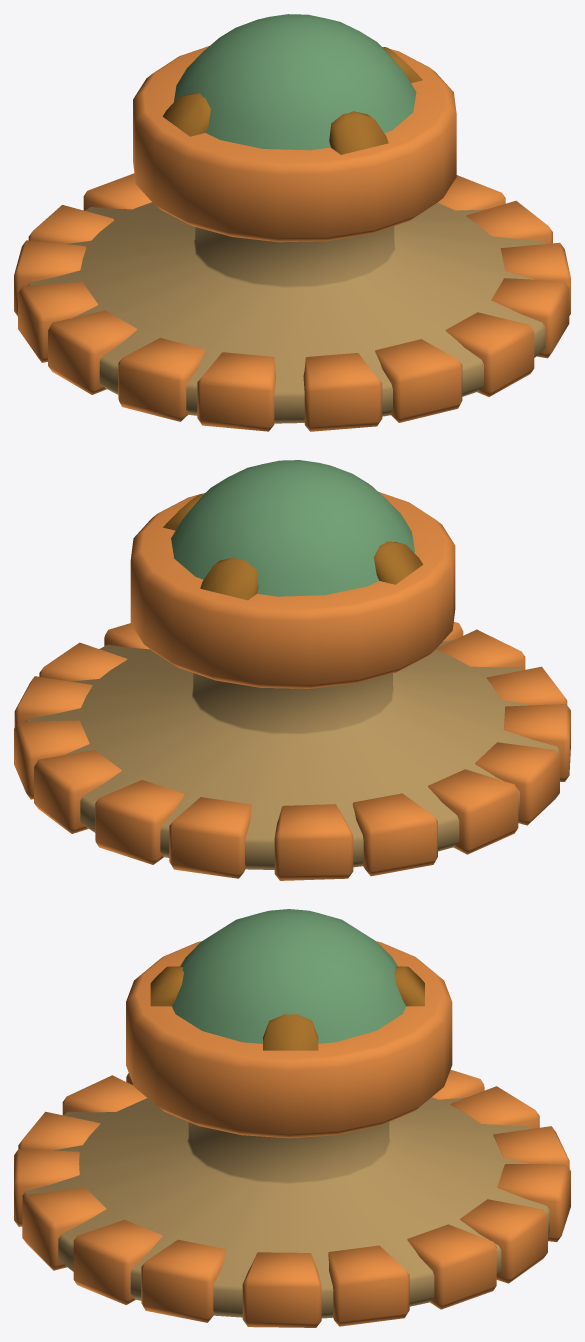
File: fbx_Statue_03.fbx
3 renders of one model, top to bottom at view 1: azimuth 30°, elevation 25°; view 2: azimuth 150°, elevation 25°; view 3: azimuth 270°, elevation 25°, orthographic.
Visible parts, largest first — view 1: Cylinder.002; view 2: Cylinder.002; view 3: Cylinder.002.
Boxes of the visible parts, x1,y1,x2,y2 form: Cylinder.002: (14, 14, 570, 431); Cylinder.002: (14, 460, 570, 880); Cylinder.002: (14, 909, 570, 1327).
Size of the model in its own units: 119 by 68.53 by 119.
